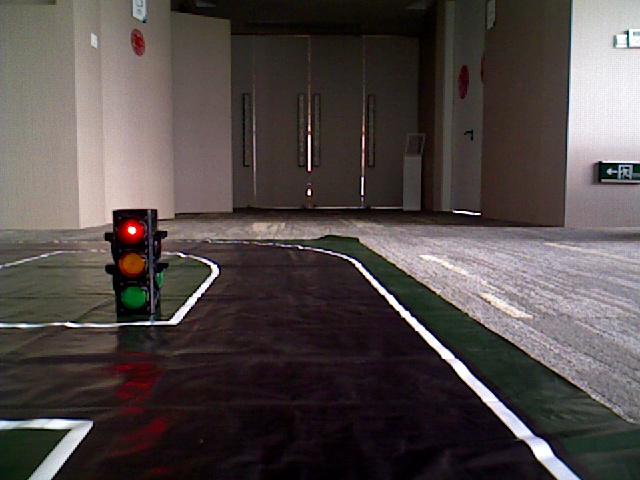red: (112, 212, 151, 312)
